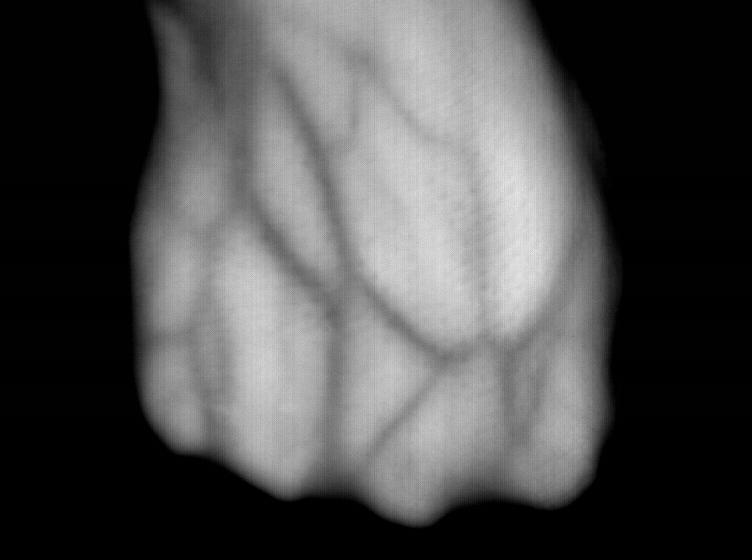Vein: (230, 70, 473, 370)
